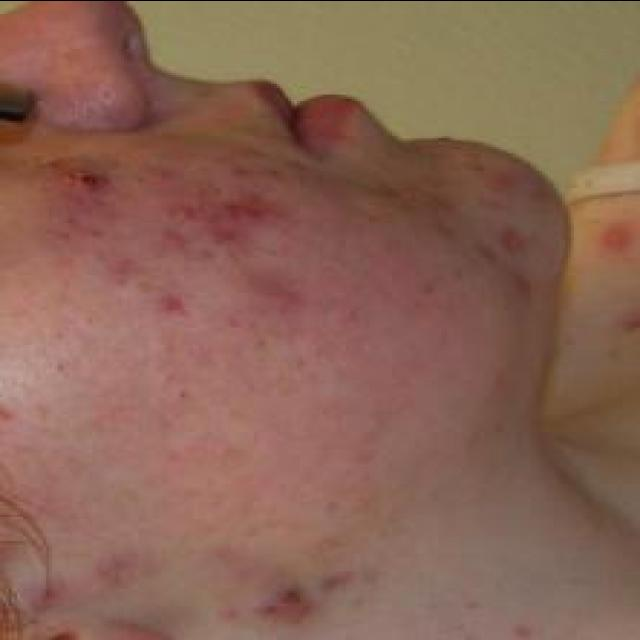Acne: (197, 193, 277, 249), (250, 585, 318, 625), (262, 284, 310, 320), (56, 163, 111, 193), (494, 222, 530, 258), (152, 290, 190, 318), (150, 226, 192, 250), (165, 200, 199, 225)
